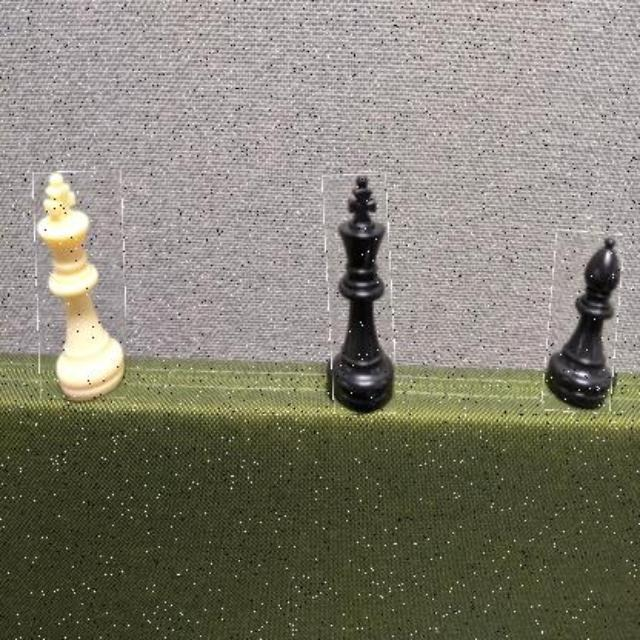black-bishop: (545, 231, 620, 412)
black-king: (324, 175, 393, 415)
white-king: (36, 172, 126, 400)
